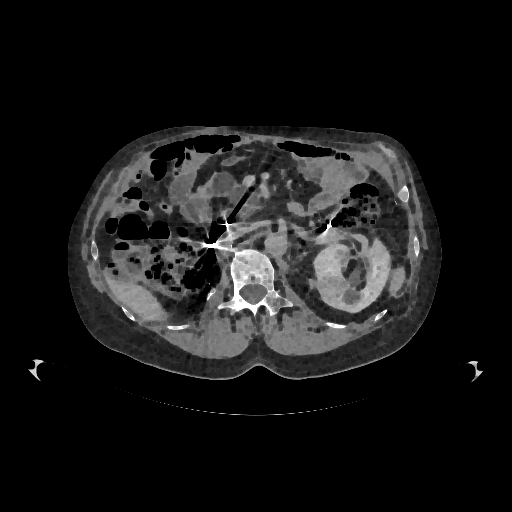Lesion: (315, 272, 348, 299)
